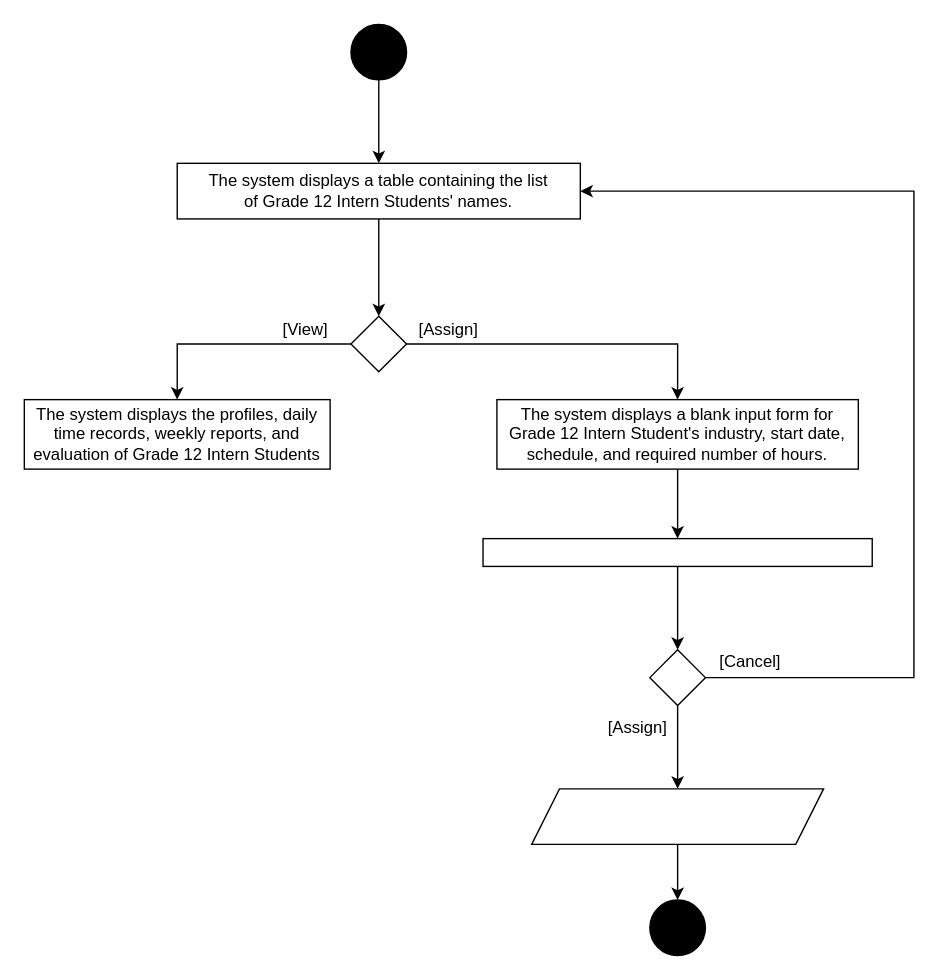
This 949x980 diagram has some shape labels left out. Each missing label, with the box of its shape:
The Industry Supervisor inputs the required fields.: (482, 537, 872, 566)
The system displays a message "Successfully Assigned!": (530, 787, 824, 844)
